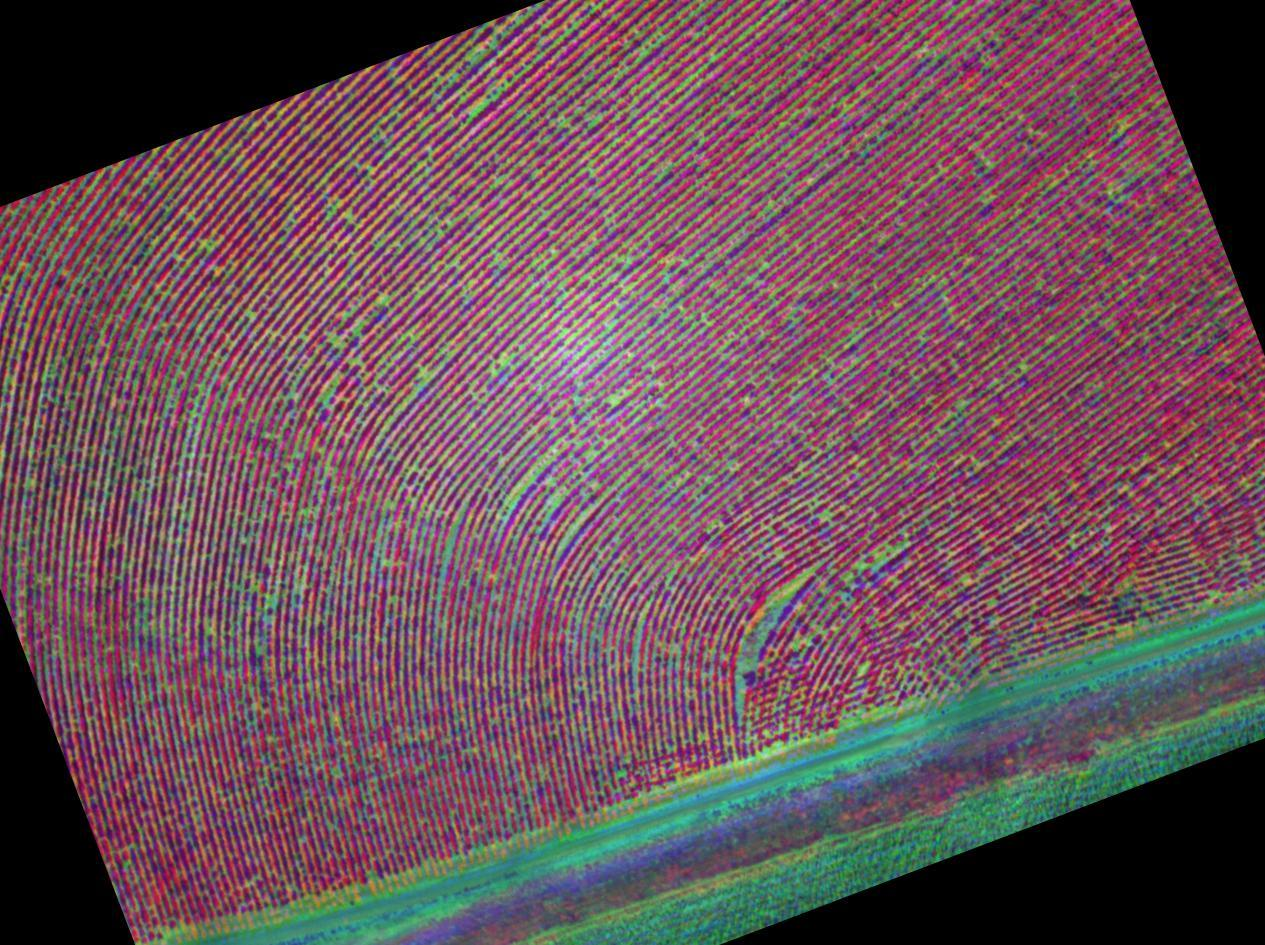dc: (81, 458, 174, 549), (431, 33, 524, 118), (178, 325, 256, 421), (708, 565, 787, 651), (36, 305, 110, 387)
